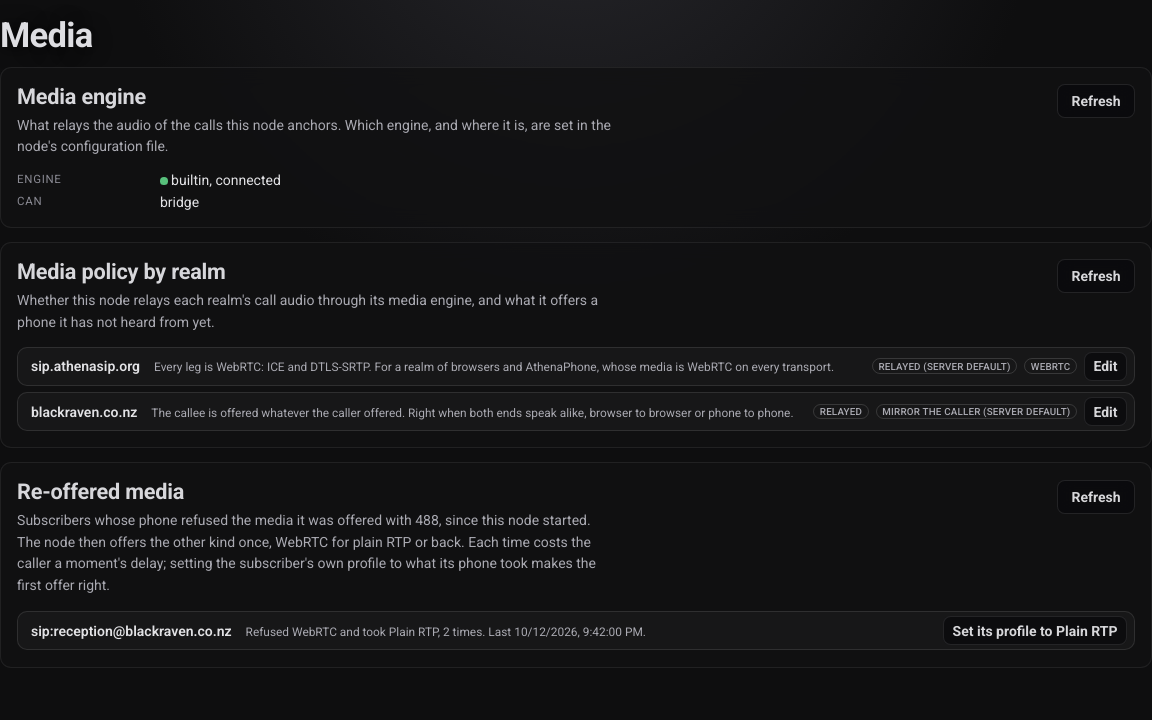
Test case: MediaScreen › changes only the media policy of a realm
Click the button with aria-label "Edit media for blackraven.co.nz".
click(1105, 412)  # box [1084, 397, 1127, 426]
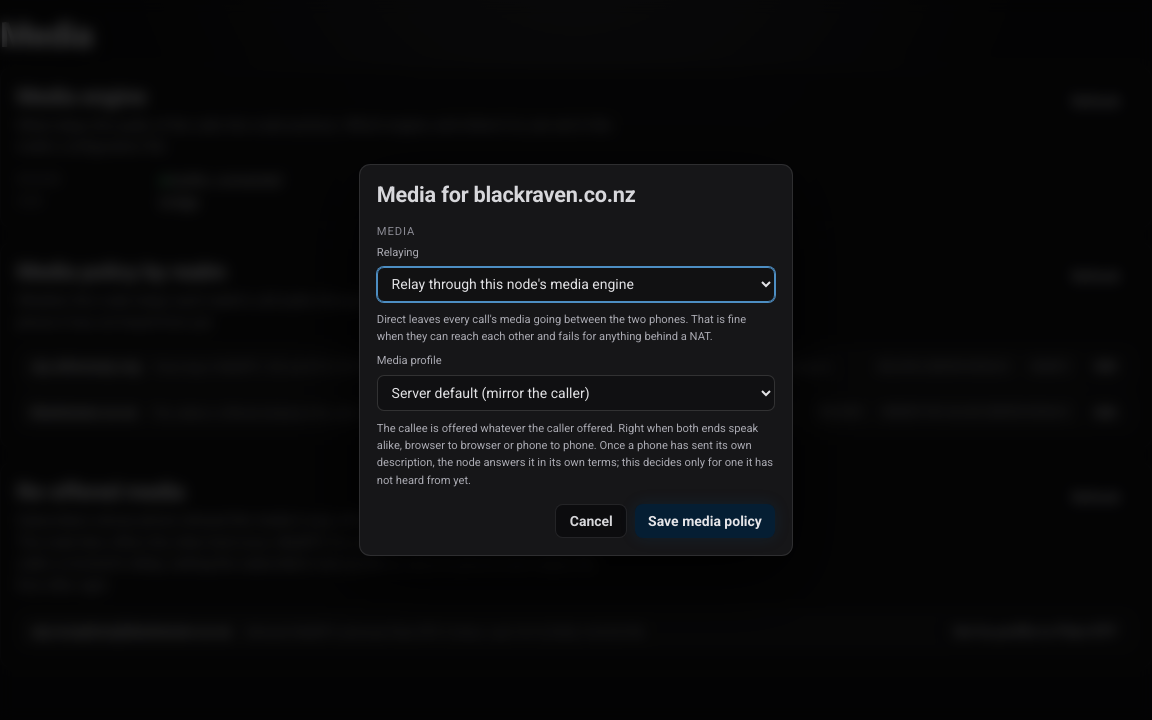
Select "Plain RTP" in the dropdown labelled "Media profile" at (576, 393), box [377, 375, 775, 411]
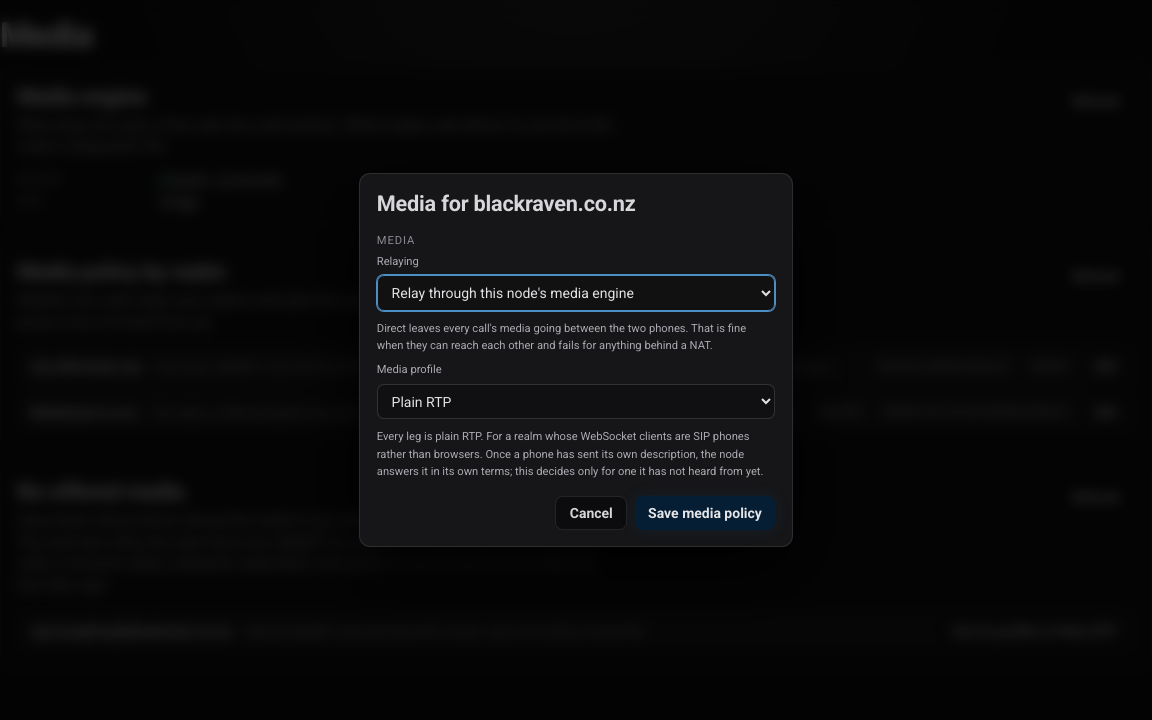
Click the button "Save media policy".
click(705, 512)  # box [635, 496, 775, 529]
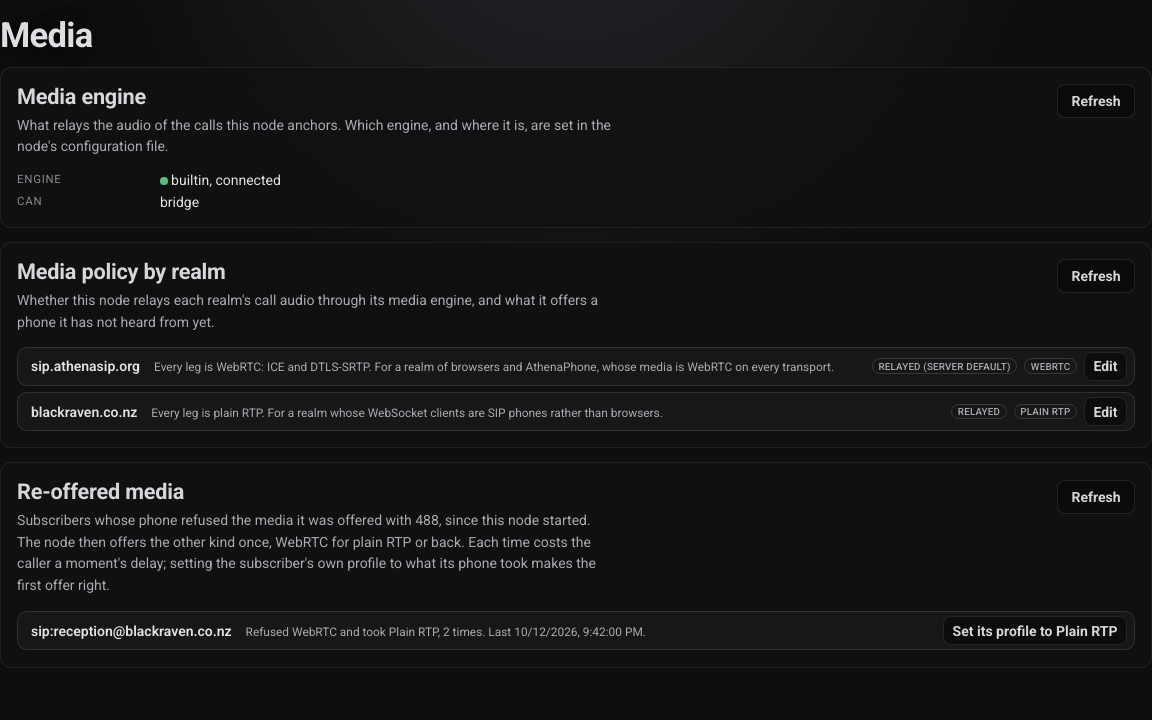
Now the dialog is gone
